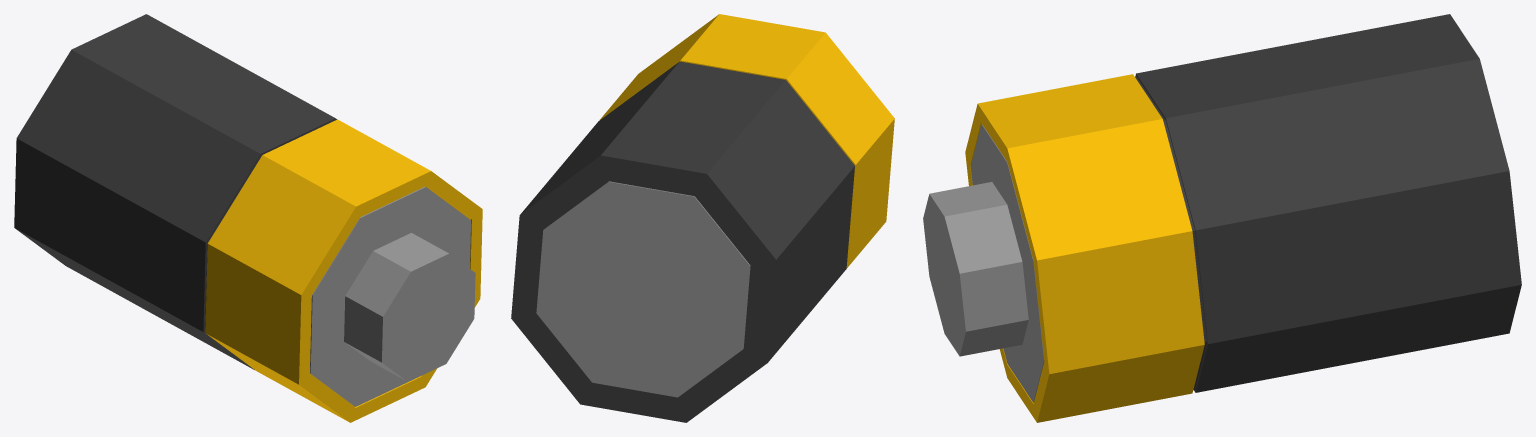
The model's file is battery.glb.
3 renders of one model, left to right at view 1: azimuth 30°, elevation 25°; view 2: azimuth 150°, elevation 25°; view 3: azimuth 270°, elevation 25°, orthographic. The views are drawn at different scales.
Parts seen in each view (by area): view 1: Cylinder; view 2: Cylinder; view 3: Cylinder.
Boxes of the visible parts, bbox=[...] form: Cylinder: bbox=[14, 14, 482, 422]; Cylinder: bbox=[511, 14, 894, 422]; Cylinder: bbox=[923, 14, 1521, 422].
Size of the model in its own units: 2.55 by 2.15 by 3.68.
